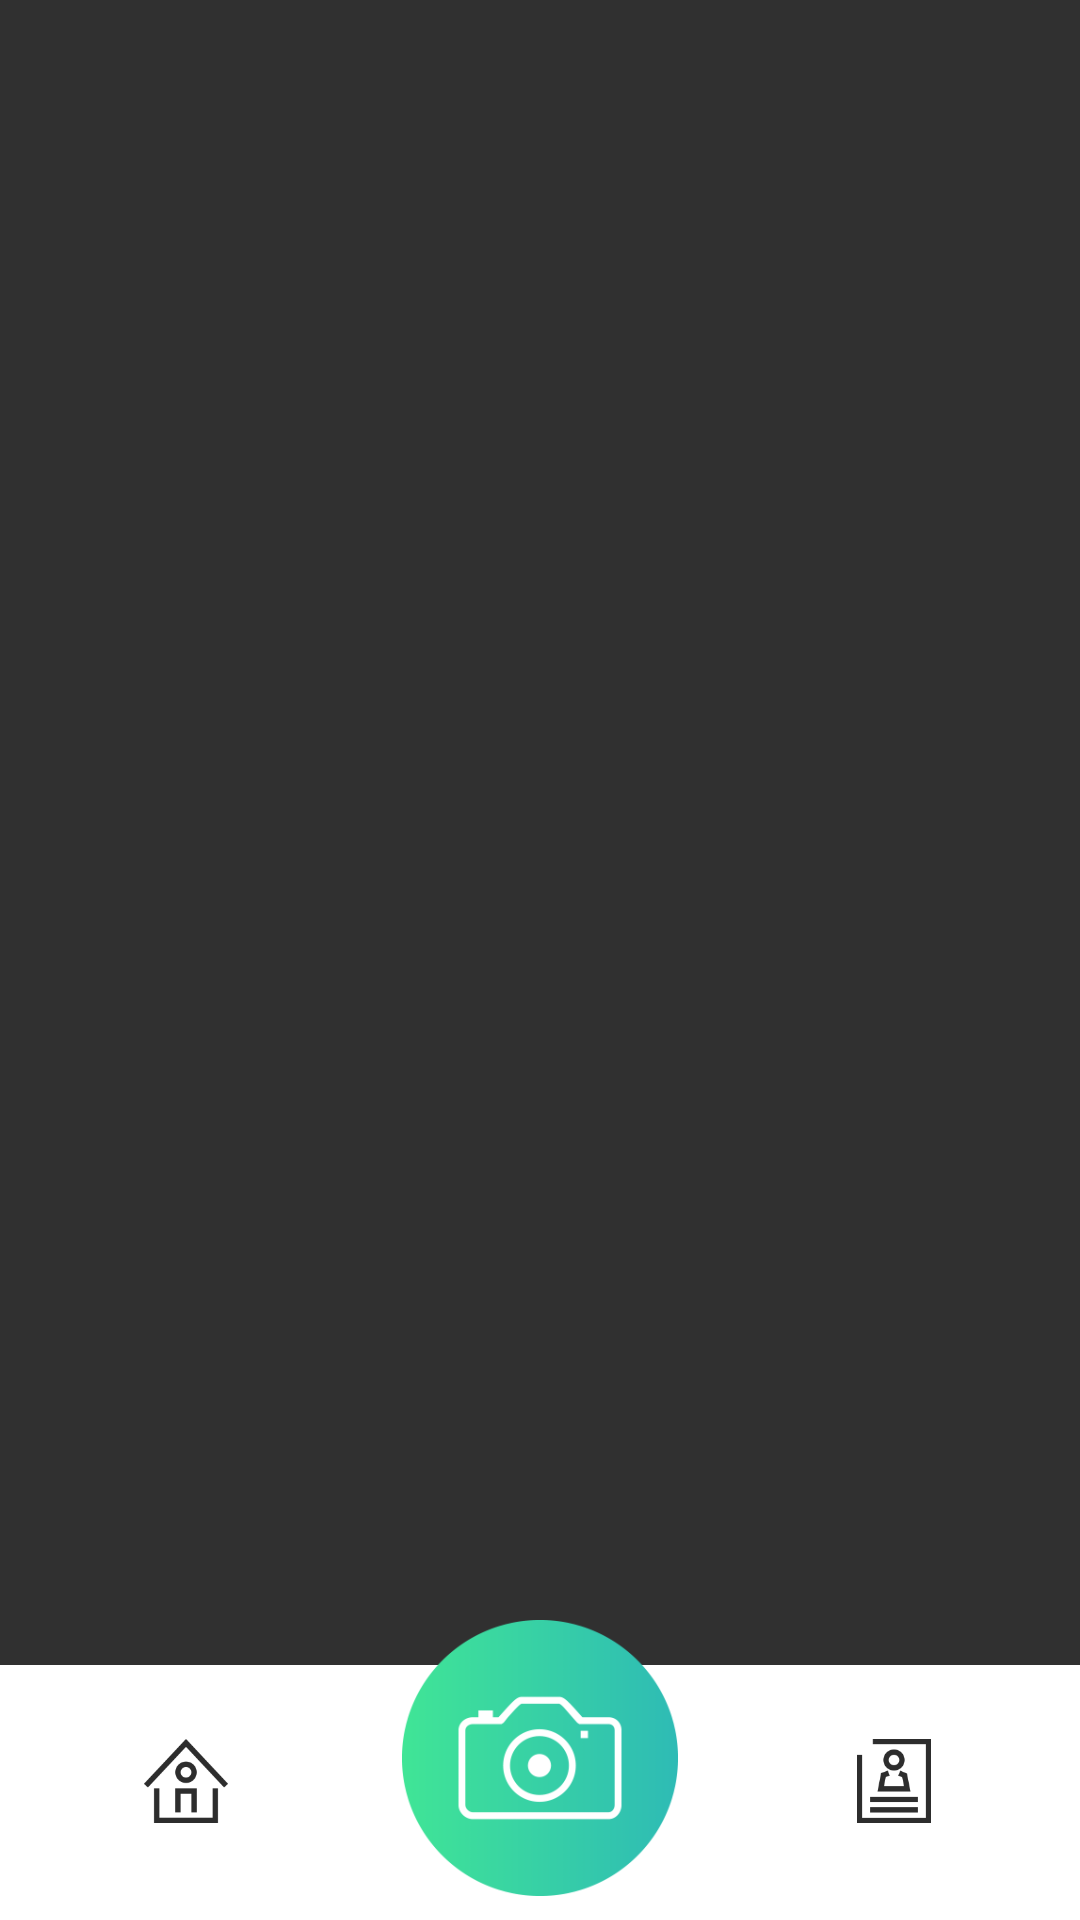

Point at icon controls on the screen. Image size 1080 x 1920, points as (x,y).
camera: (540,1770)
profil: (894,1781)
